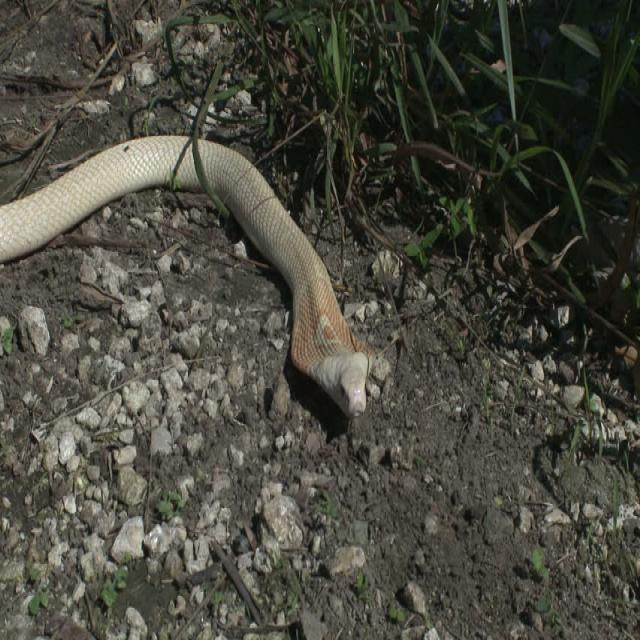Snake: (0, 128, 378, 417)
